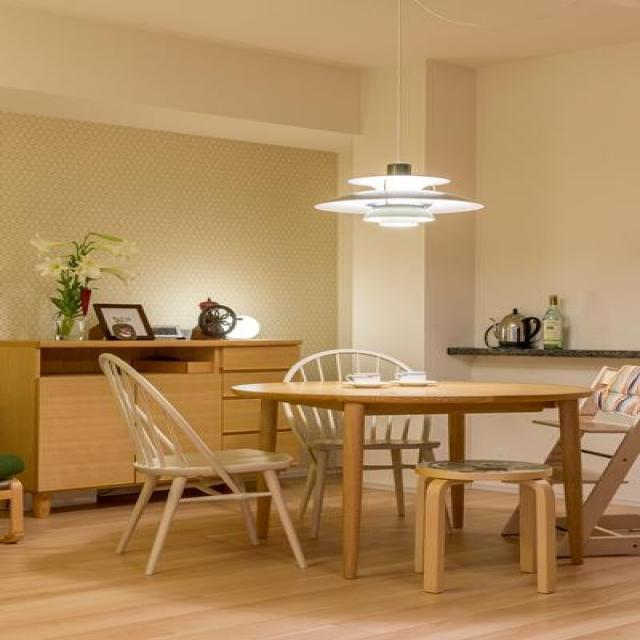natural chair: (87, 345, 314, 566), (408, 453, 575, 589)
natural desk: (232, 374, 600, 593)
natural shelf: (4, 331, 311, 493)
